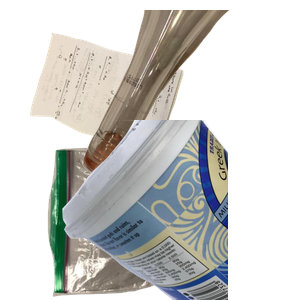glass: (80, 10, 300, 182)
paper: (27, 30, 203, 178)
plastic: (60, 120, 300, 300)
trash: (45, 144, 235, 300)
